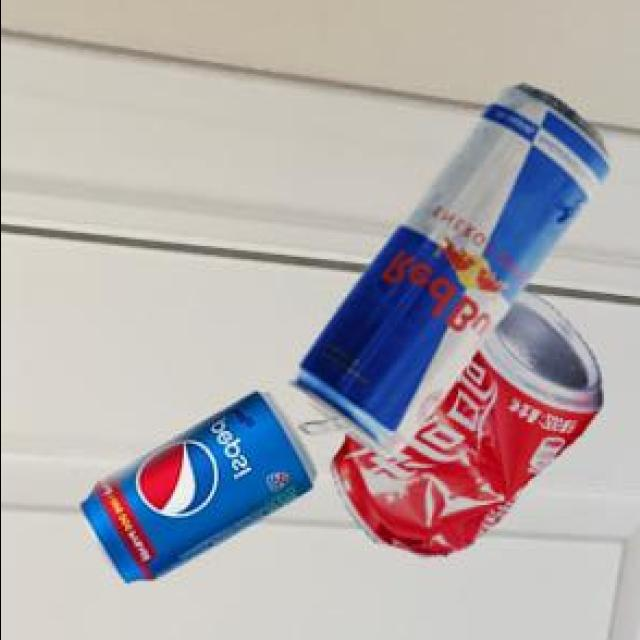logam: (284, 82, 604, 454), (328, 286, 598, 554), (75, 389, 310, 580)
